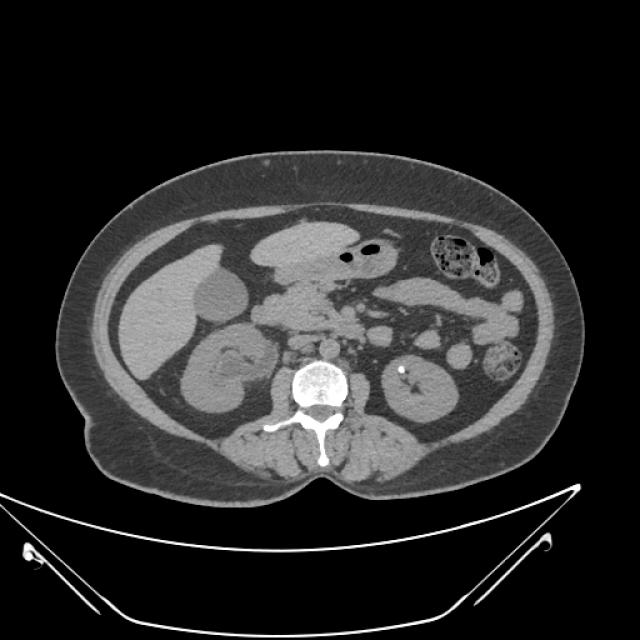kidney: (178, 319, 280, 416), (379, 346, 462, 427)
stone: (397, 364, 407, 377)
